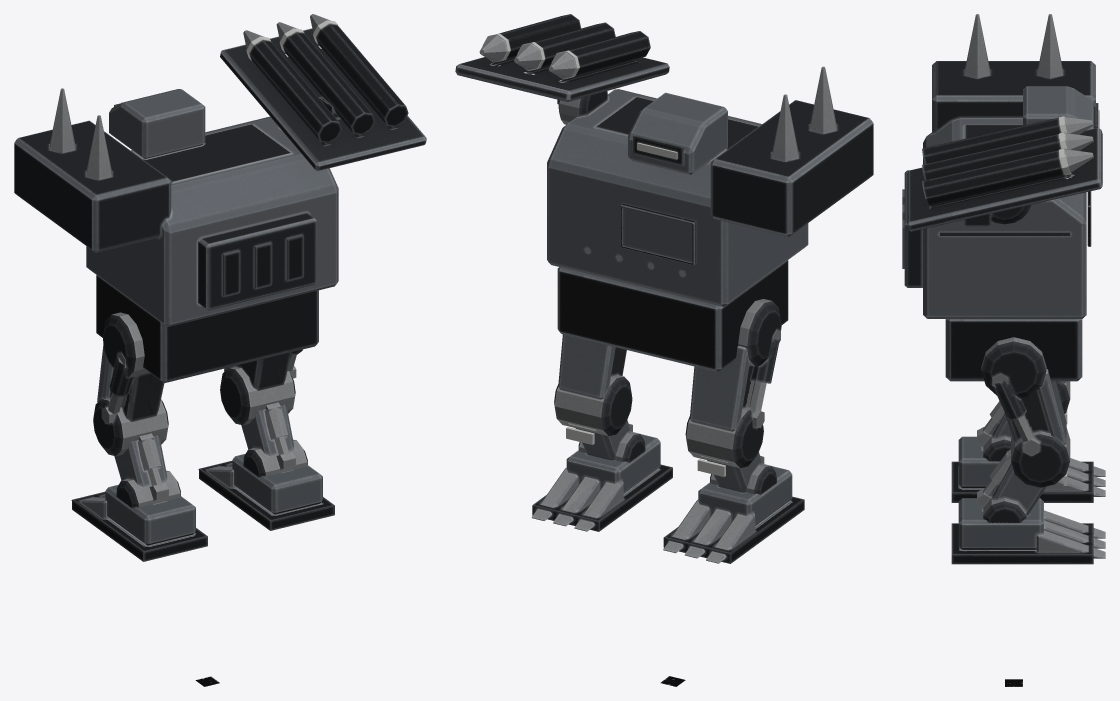
Rendered from chs_firebrand.fbx.
3 views of the same model, side by side, from view 1: azimuth 30°, elevation 25°; view 2: azimuth 150°, elevation 25°; view 3: azimuth 270°, elevation 25° (orthographic). The views are drawn at different scales.
Visible parts, largest first — view 1: torso_bar, base_bar, thighL_bar, footR_bar, footL_bar, thighR_bar, shinL_bar, shinR_bar; view 2: torso_bar, base_bar, thighL_bar, footL_bar, footR_bar, thighR_bar, shinR_bar, shinL_bar; view 3: torso_bar, thighR_bar, footR_bar, base_bar, footL_bar, shinR_bar, shinL_bar, torso_glow_weapon_bar, thighL_bar.
Part boxes in pixels (left/top/right/bottom): torso_bar: left=14, top=14, right=426, bottom=326; base_bar: left=96, top=275, right=318, bottom=382; thighL_bar: left=93, top=312, right=168, bottom=456; footR_bar: left=198, top=453, right=334, bottom=530; footL_bar: left=71, top=484, right=207, bottom=561; thighR_bar: left=220, top=349, right=302, bottom=425; shinL_bar: left=114, top=433, right=180, bottom=508; shinR_bar: left=241, top=402, right=307, bottom=477; torso_bar: left=455, top=14, right=873, bottom=306; base_bar: left=557, top=260, right=788, bottom=371; thighL_bar: left=685, top=299, right=781, bottom=468; footL_bar: left=663, top=466, right=804, bottom=563; footR_bar: left=531, top=434, right=672, bottom=531; thighR_bar: left=554, top=334, right=632, bottom=435; shinR_bar: left=575, top=420, right=645, bottom=462; shinL_bar: left=707, top=452, right=776, bottom=494; torso_bar: left=902, top=14, right=1102, bottom=318; thighR_bar: left=981, top=337, right=1070, bottom=487; footR_bar: left=951, top=498, right=1105, bottom=564; base_bar: left=945, top=319, right=1082, bottom=381; footL_bar: left=951, top=436, right=1105, bottom=502; shinR_bar: left=977, top=449, right=1046, bottom=522; shinL_bar: left=977, top=401, right=1011, bottom=461; torso_glow_weapon_bar: left=1059, top=116, right=1070, bottom=174; thighL_bar: left=1056, top=381, right=1070, bottom=413.
Size of the model in its own units: 405 by 735 by 223.
Materials: 2 (2 with a texture image).
